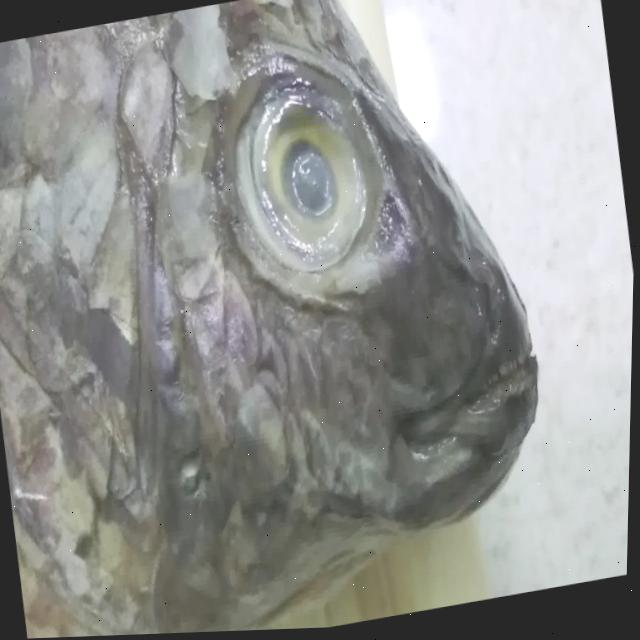Non-Fresh: (211, 62, 407, 302)
